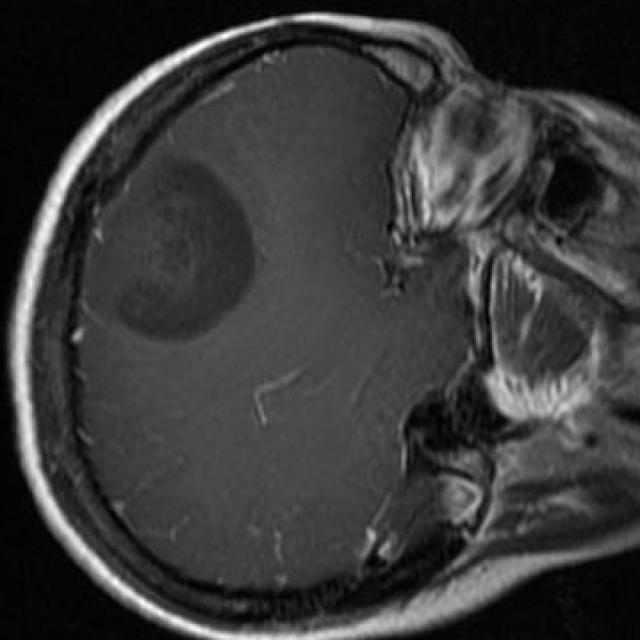glioma: (86, 160, 255, 344)
